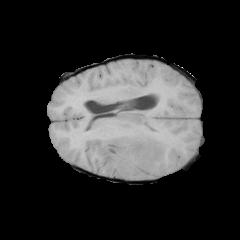glioma: (102, 129, 167, 168)
